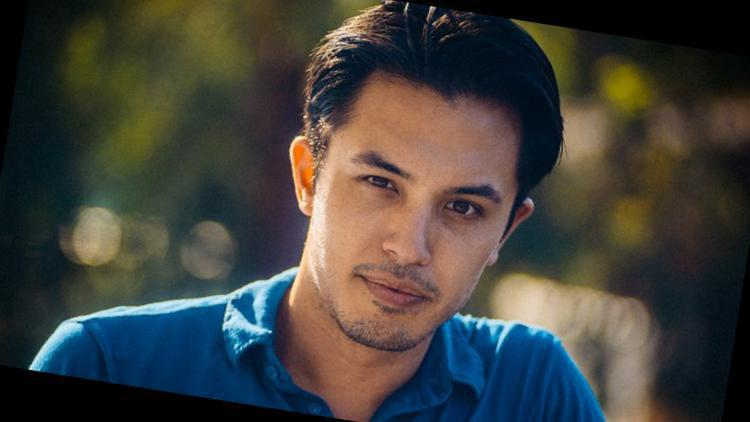Sober: (340, 84, 489, 341)
